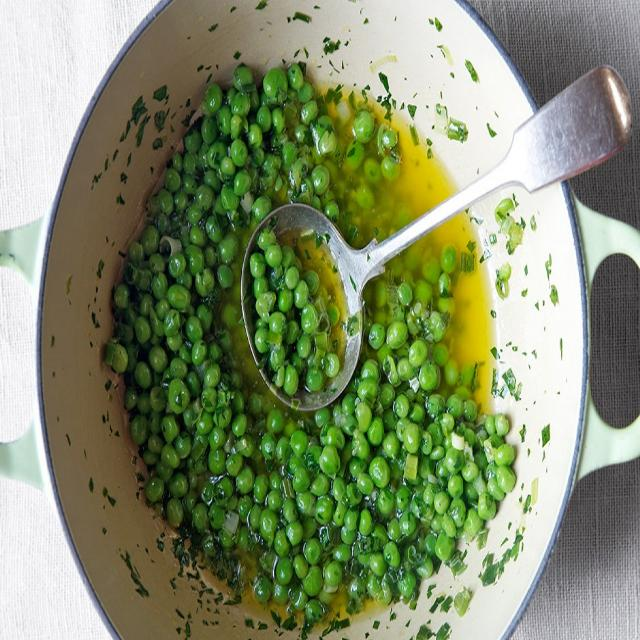Peas: (104, 60, 518, 623)
